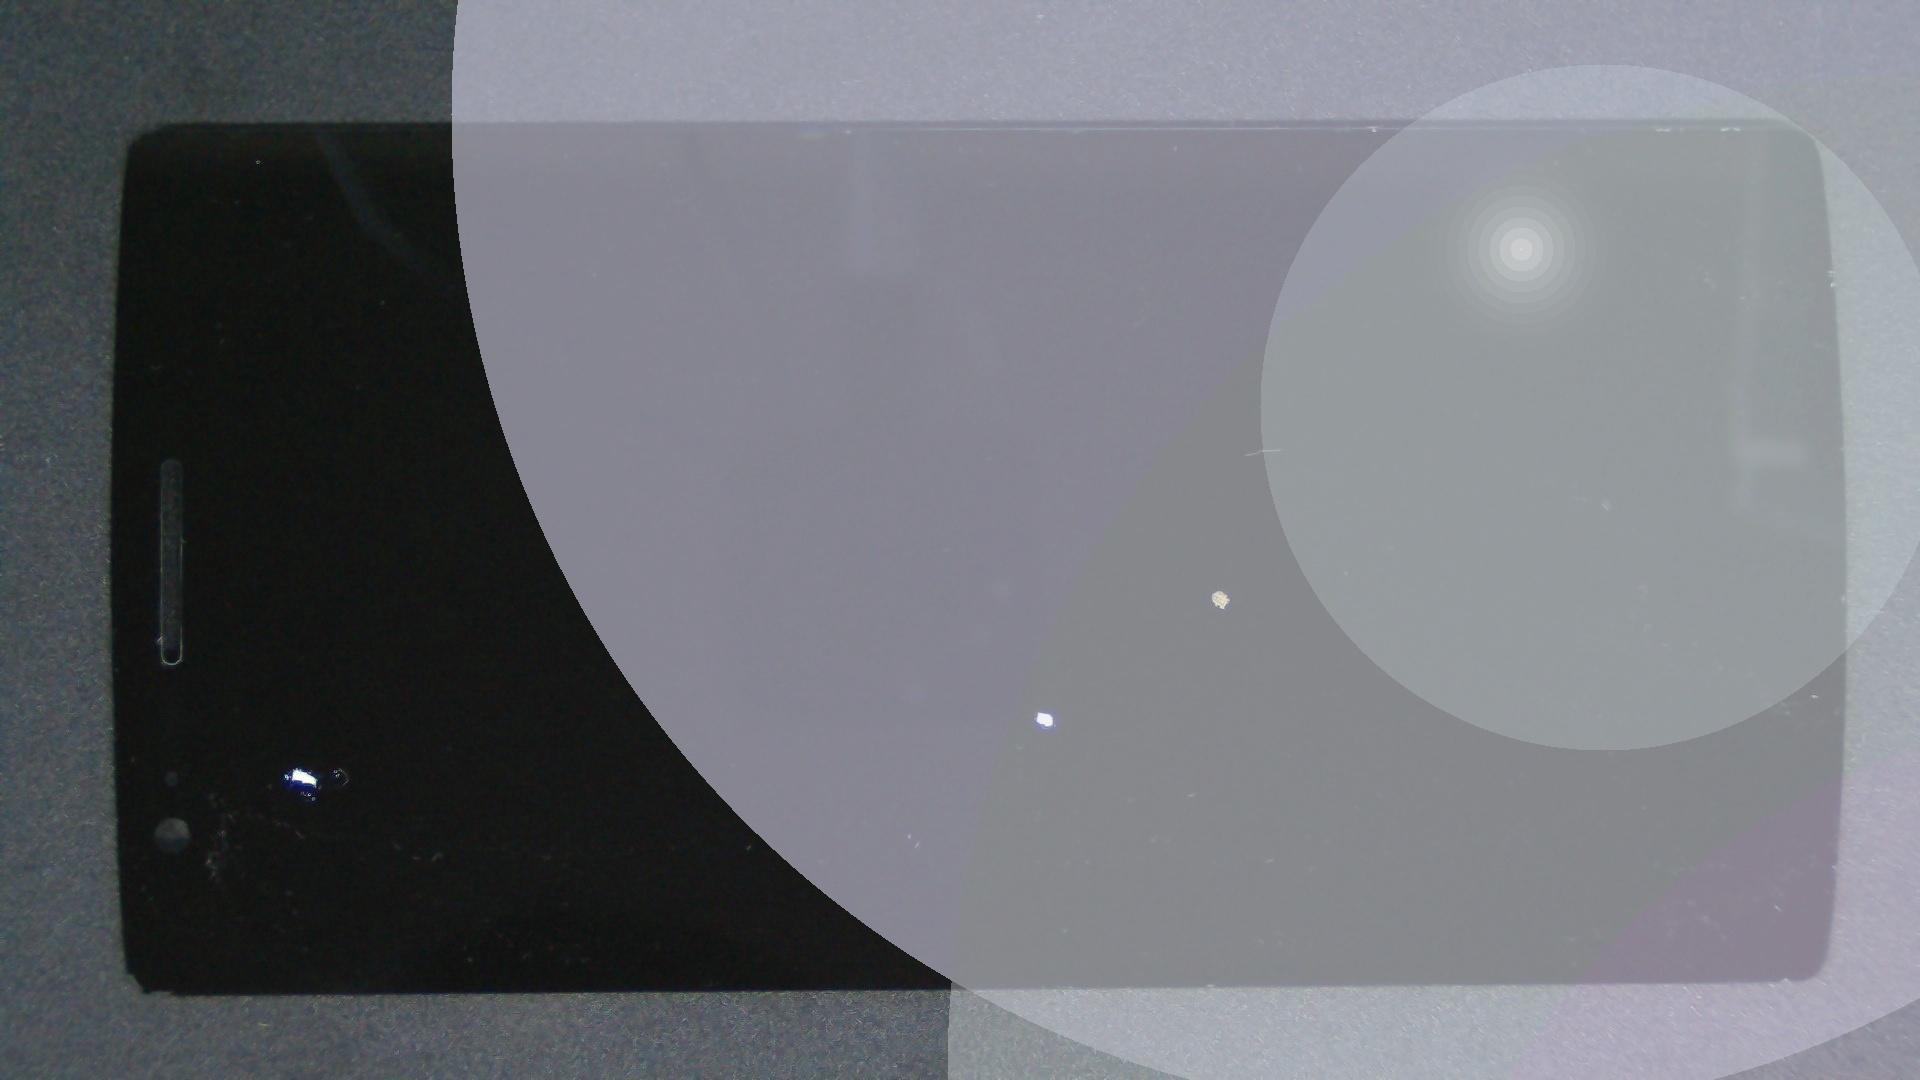oil: (517, 352, 1551, 1067), (609, 293, 1825, 881), (152, 382, 451, 1080)
